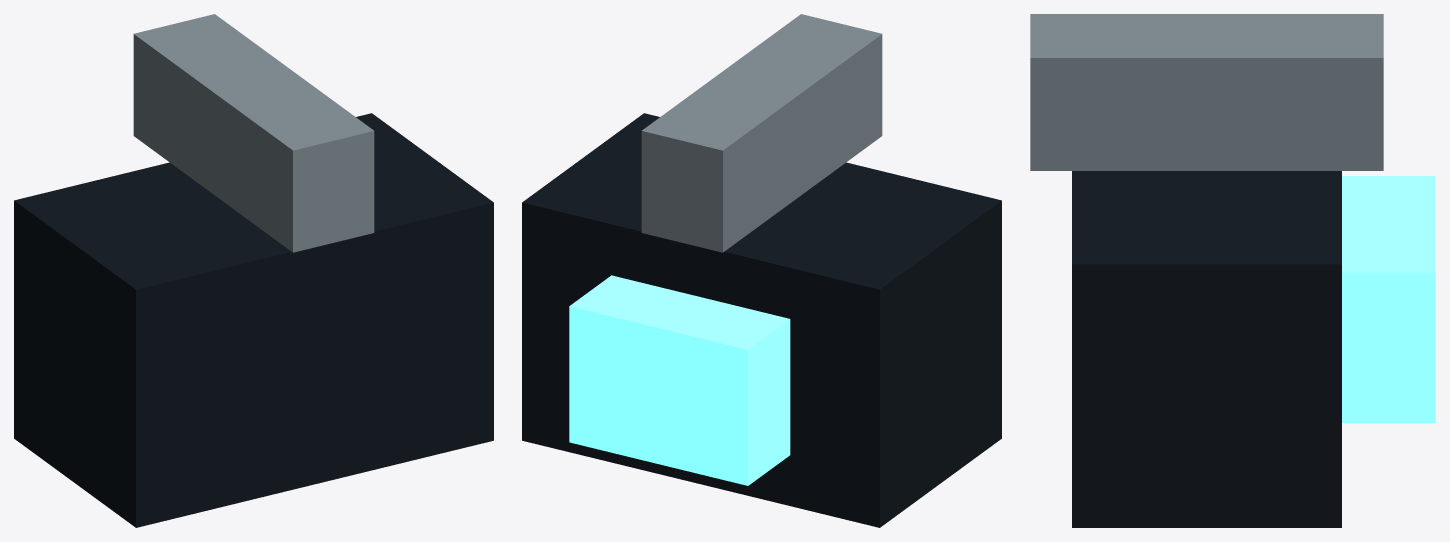
Rendered from np_z06_composant_neural.glb.
The picture shows the model from 3 angles, left to right: view 1: azimuth 30°, elevation 25°; view 2: azimuth 150°, elevation 25°; view 3: azimuth 270°, elevation 25°; orthographic projection. The views are drawn at different scales.
Visible parts, largest first — view 1: Boitier, Poignee; view 2: Boitier, Noyau, Poignee; view 3: Boitier, Poignee, Noyau.
Boxes of the visible parts, bbox=[...] form: Boitier: bbox=[14, 113, 493, 527]; Poignee: bbox=[133, 14, 374, 252]; Boitier: bbox=[522, 113, 1001, 527]; Noyau: bbox=[569, 275, 790, 485]; Poignee: bbox=[641, 14, 882, 252]; Boitier: bbox=[1072, 171, 1341, 527]; Poignee: bbox=[1030, 14, 1383, 170]; Noyau: bbox=[1342, 176, 1435, 423].
Bounding box in the file's own units: 0.44 × 0.42 × 0.39.
